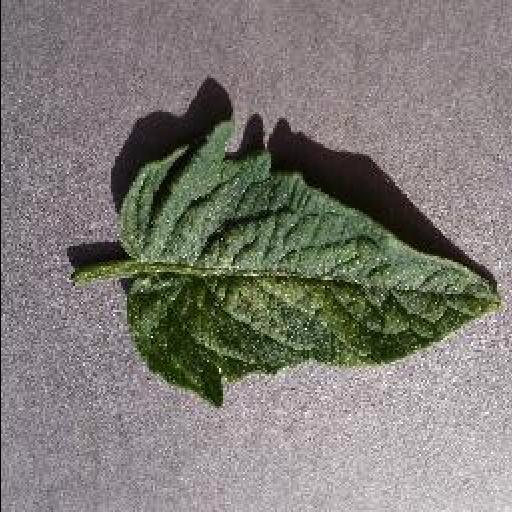disease_tomato: (118, 120, 500, 410)
